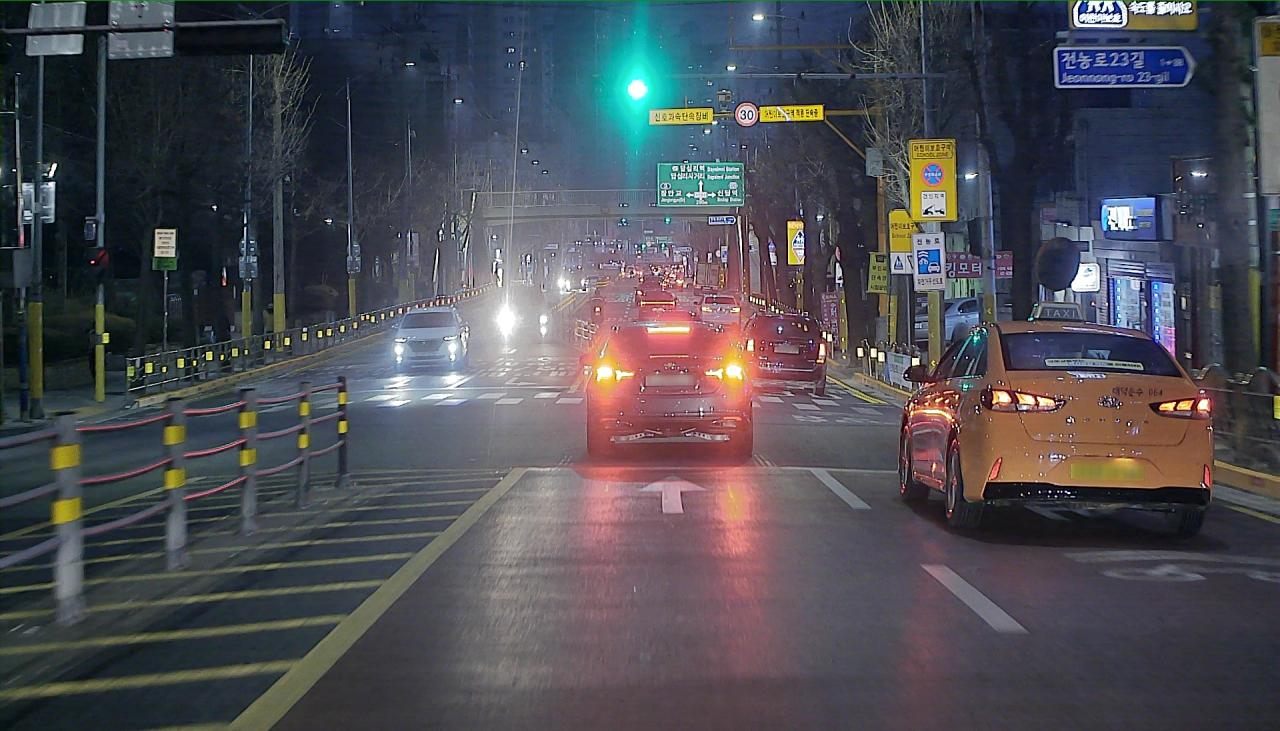Green Light: (626, 80, 648, 100)
